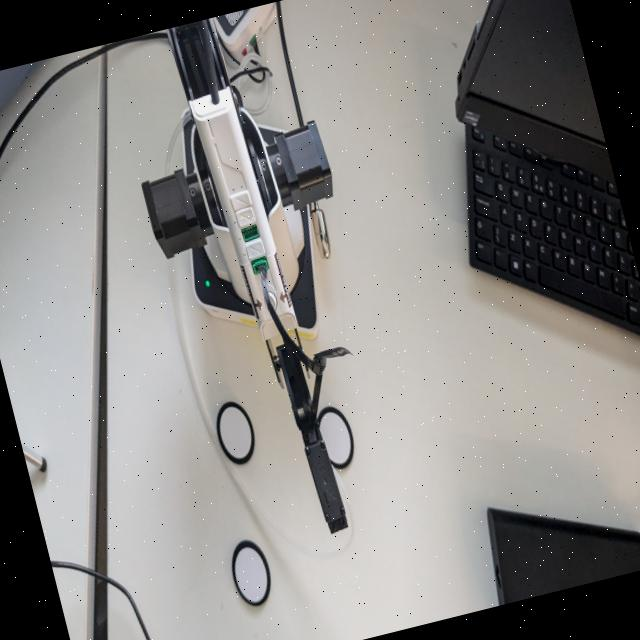Robot-end-effector-HF8z: (298, 422, 356, 542)
